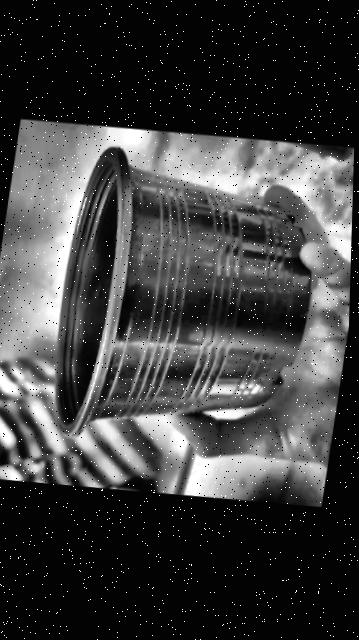pot: (54, 148, 309, 435)
